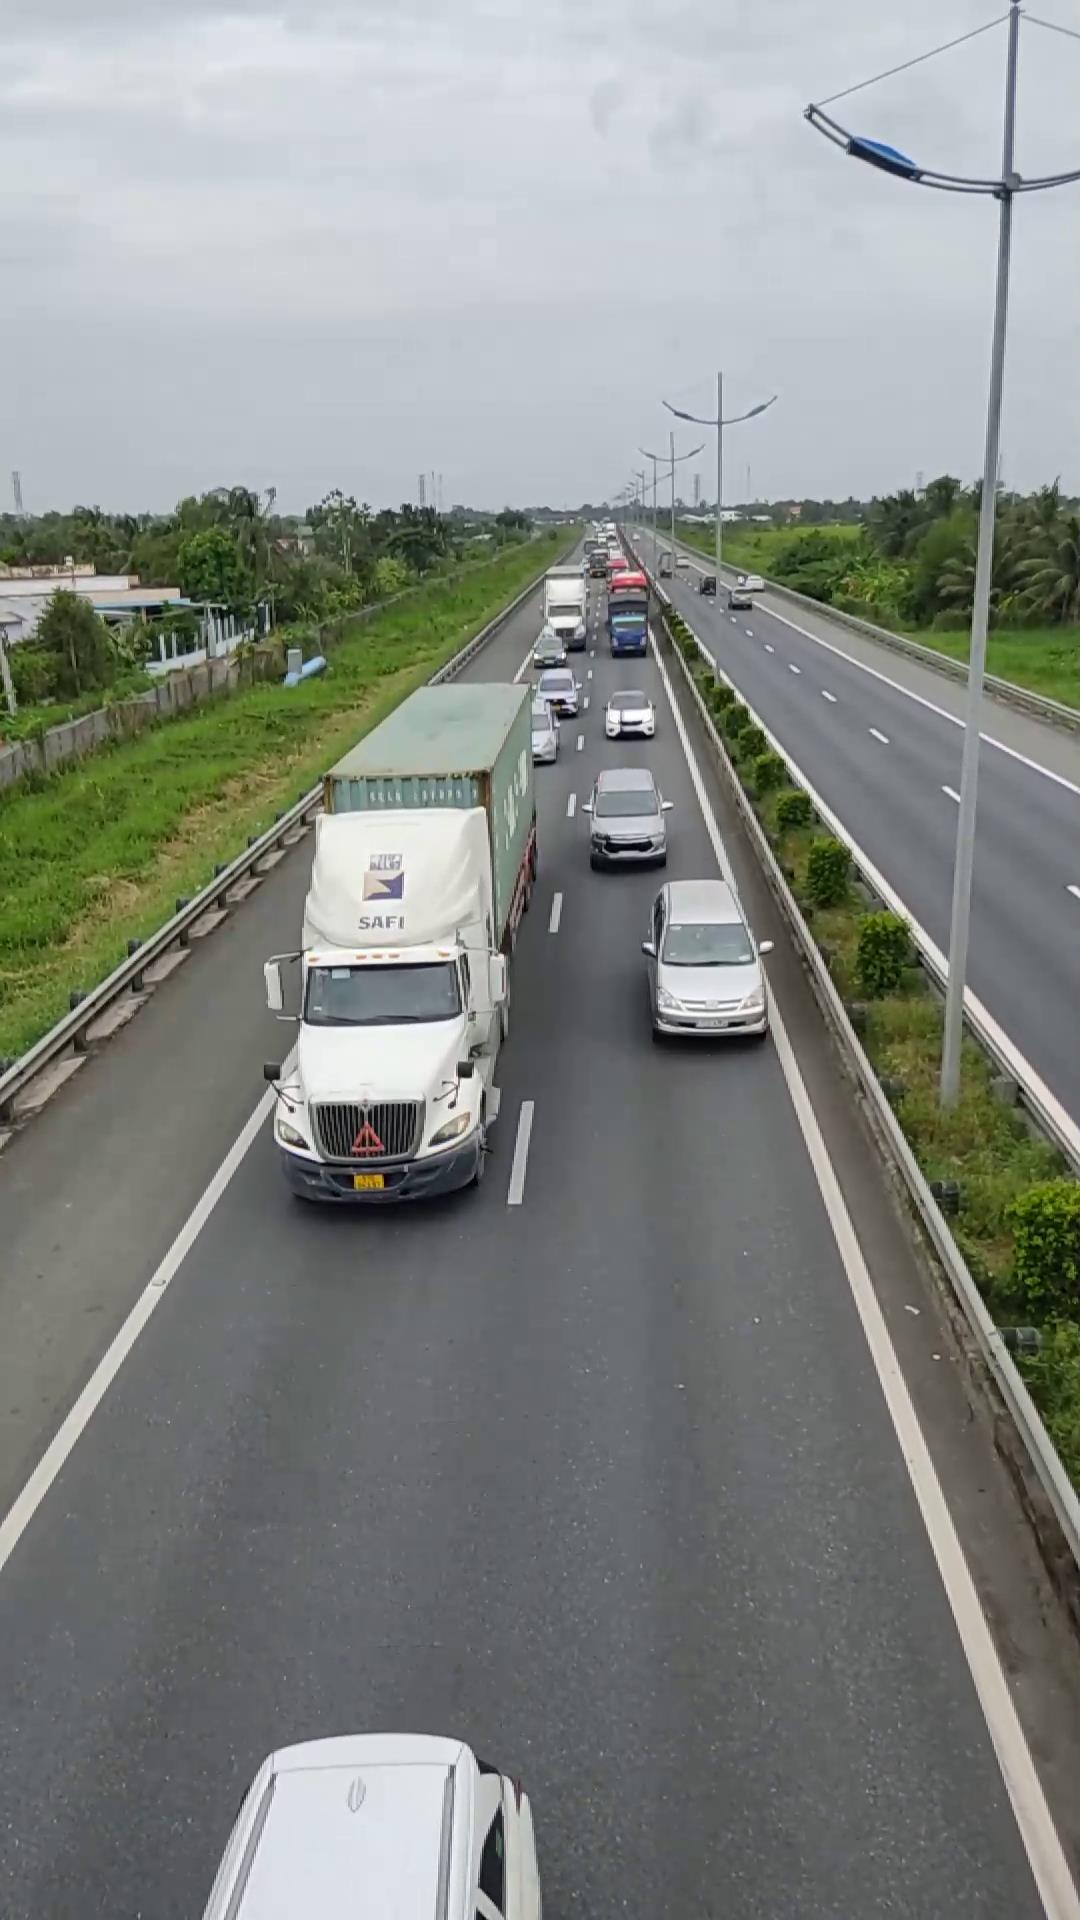car: (186, 1731, 549, 1919), (640, 877, 769, 1042), (580, 769, 669, 869)
container: (271, 675, 537, 1207)
